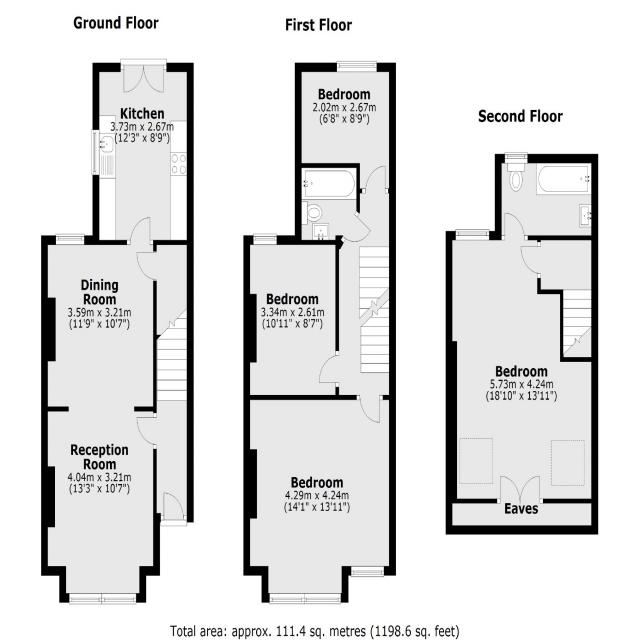DOOR: (340, 210, 372, 243), (160, 492, 188, 527), (360, 164, 389, 194), (126, 216, 154, 245), (136, 412, 157, 450), (520, 241, 541, 279), (356, 395, 383, 424), (319, 350, 339, 388), (501, 212, 528, 240), (136, 250, 157, 282)
DOUBLE DOOR: (121, 58, 168, 94), (499, 475, 541, 505)
ROOM: (40, 217, 160, 605), (445, 212, 598, 504), (243, 394, 396, 605), (91, 58, 194, 246), (243, 233, 339, 400), (294, 61, 396, 194)
WINDOW: (269, 593, 341, 605), (69, 593, 137, 605), (336, 60, 378, 73), (351, 565, 384, 578), (91, 129, 100, 176), (455, 229, 490, 241), (55, 233, 85, 246), (253, 233, 277, 246), (504, 152, 528, 164)
